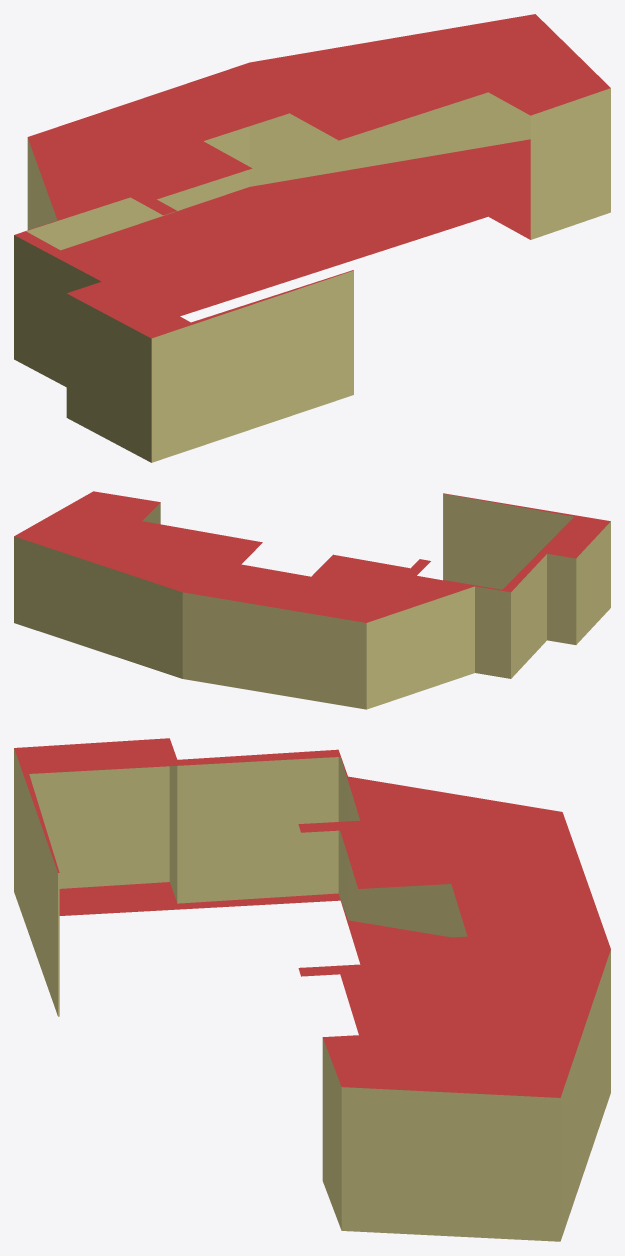
The picture shows the model from 3 angles, top to bottom: view 1: azimuth 30°, elevation 25°; view 2: azimuth 150°, elevation 25°; view 3: azimuth 270°, elevation 25°; orthographic projection. The views are drawn at different scales.
Bounding box in the file's own units: 37.27 × 26.14 × 6.95.
